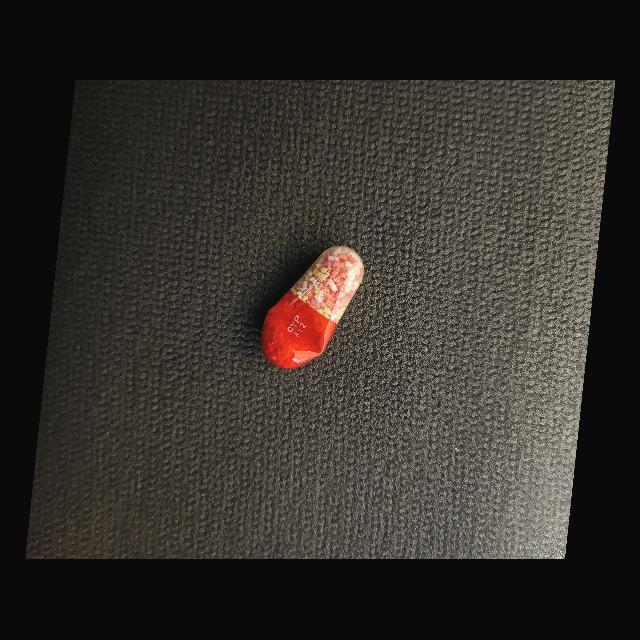Defective Capsule: (261, 246, 364, 369)
